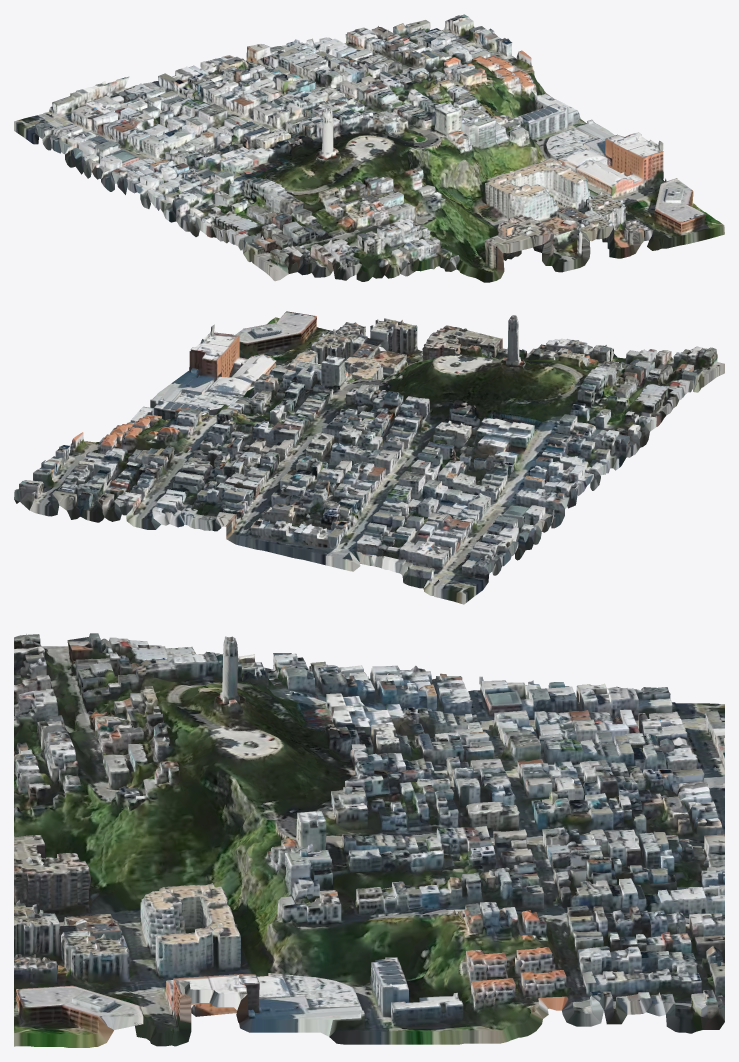
File: z16-10484-25324-h0-yup-uvflip-v3-world.glb
The picture shows the model from 3 angles, top to bottom: view 1: azimuth 30°, elevation 25°; view 2: azimuth 150°, elevation 25°; view 3: azimuth 270°, elevation 25°; orthographic projection. The views are drawn at different scales.
Size of the model in its own units: 483 by 150 by 485.
1 material, 1 textured.
